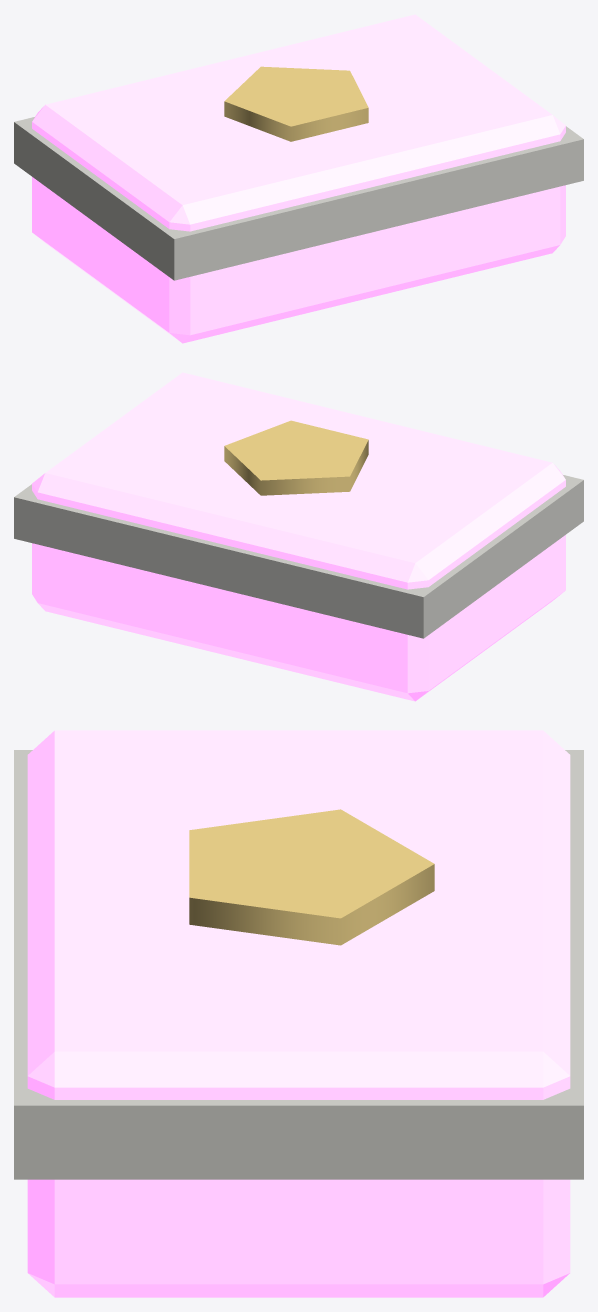
The model's file is item_cookies.glb.
3 renders of one model, top to bottom at view 1: azimuth 30°, elevation 25°; view 2: azimuth 150°, elevation 25°; view 3: azimuth 270°, elevation 25°, orthographic. The views are drawn at different scales.
Visible parts, largest first — view 1: cookies; view 2: cookies; view 3: cookies.
Part boxes in pixels (x1=…): cookies: x1=14, y1=14, x2=583, y2=343; cookies: x1=14, y1=372, x2=583, y2=701; cookies: x1=14, y1=730, x2=583, y2=1297.
Size of the model in its own units: 0.31 by 0.111 by 0.21.
